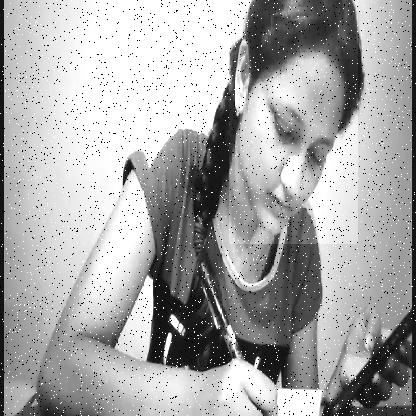Distracted: (229, 0, 358, 244)
